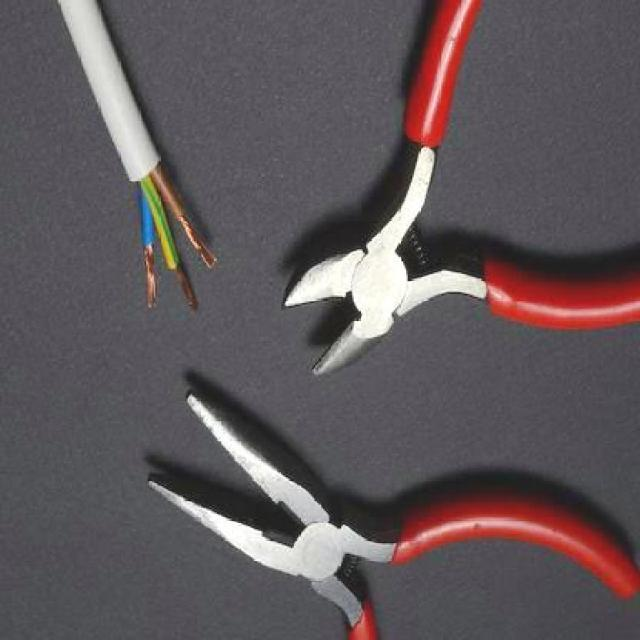pliers: (272, 0, 638, 398)
